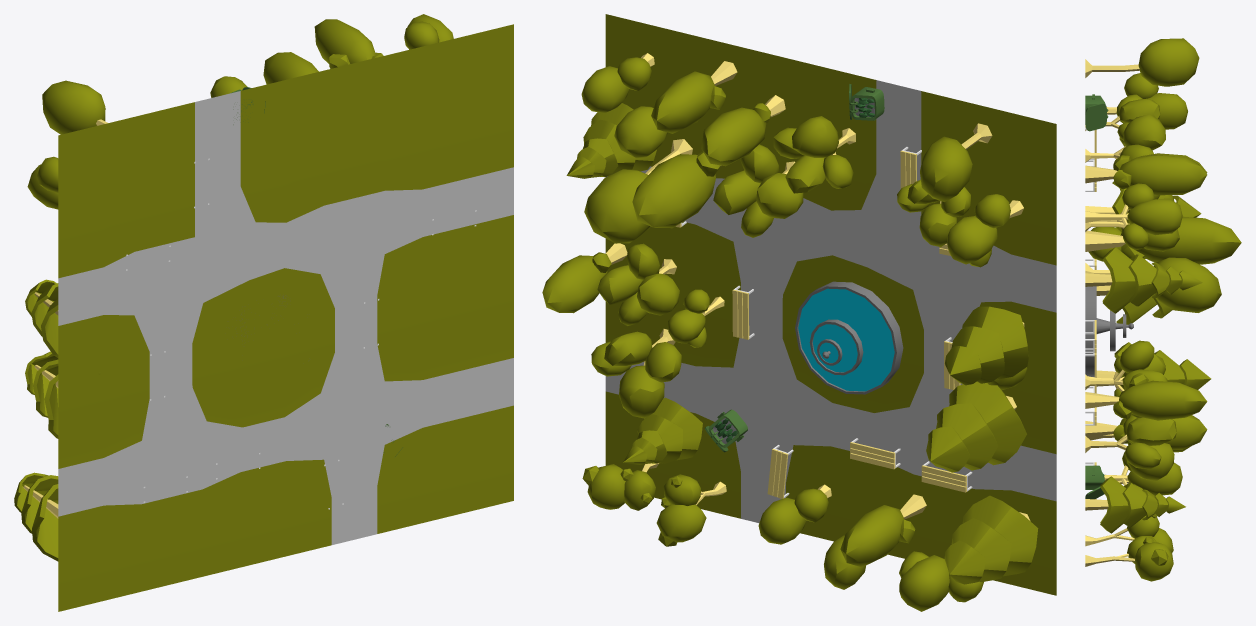
Rendered from Park03.fbx.
The picture shows the model from 3 angles, left to right: view 1: azimuth 30°, elevation 25°; view 2: azimuth 150°, elevation 25°; view 3: azimuth 270°, elevation 25°; orthographic projection. The views are drawn at different scales.
Visible parts, largest first — view 1: Park02; view 2: Park02; view 3: Park02.
Part boxes in pixels (box(x1,y1,x2,y2)): Park02: box(14, 14, 513, 611); Park02: box(542, 14, 1056, 611); Park02: box(1085, 38, 1241, 581).
Size of the model in its own units: 2448 by 2422 by 836.
